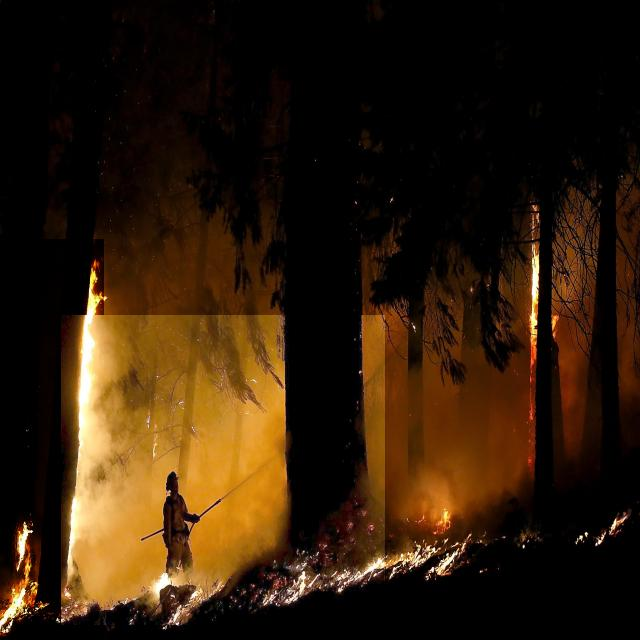Fire: (0, 239, 104, 640)
Smoke: (62, 315, 386, 625)
